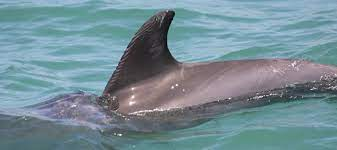fin: (44, 5, 337, 129)
